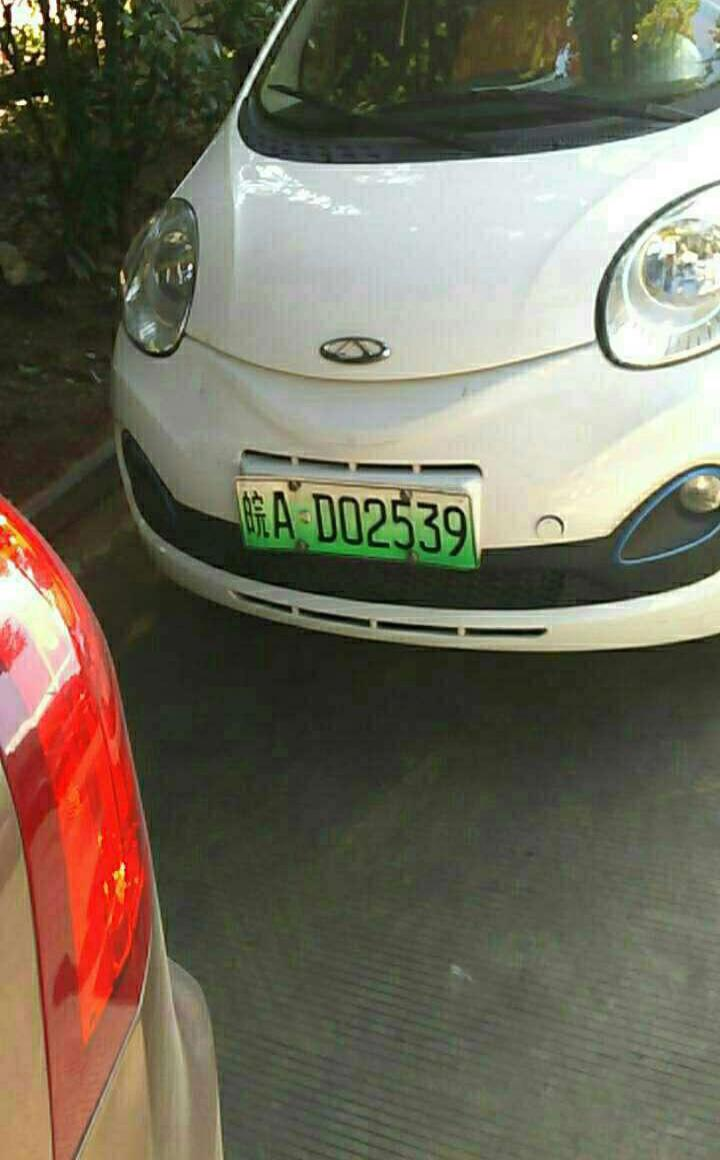car_id: (233, 479, 479, 562)
